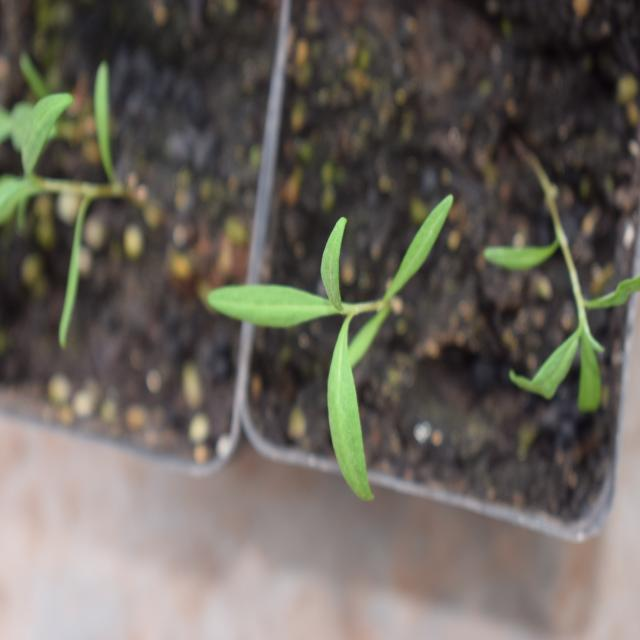white_smart_weed: (200, 166, 457, 482)
